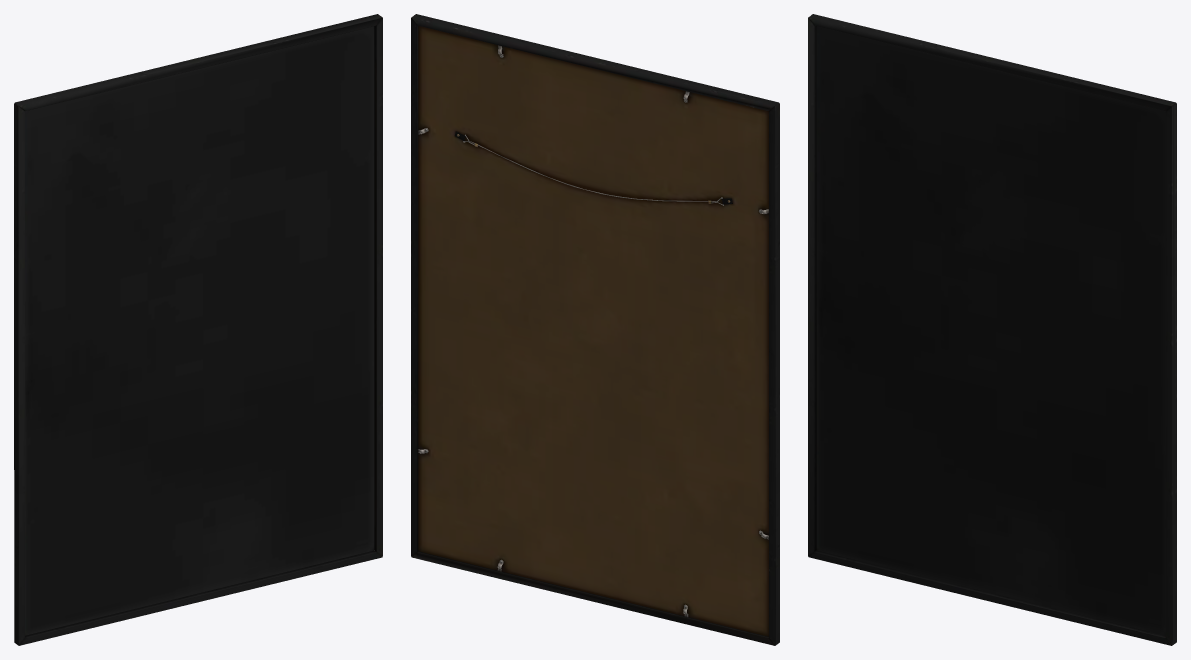
The model's file is hanging_picture_frame_01.glb.
3 renders of one model, left to right at view 1: azimuth 30°, elevation 25°; view 2: azimuth 150°, elevation 25°; view 3: azimuth 330°, elevation 25°, orthographic.
Parts seen in each view (by area): view 1: hanging_picture_frame_01; view 2: hanging_picture_frame_01; view 3: hanging_picture_frame_01.
Part boxes in pixels (<box>): hanging_picture_frame_01: <box>14,14,382,645</box>; hanging_picture_frame_01: <box>411,14,779,645</box>; hanging_picture_frame_01: <box>808,14,1176,645</box>.
Size of the model in its own units: 0.594 by 0.841 by 0.0154.
3 materials, 3 textured.
